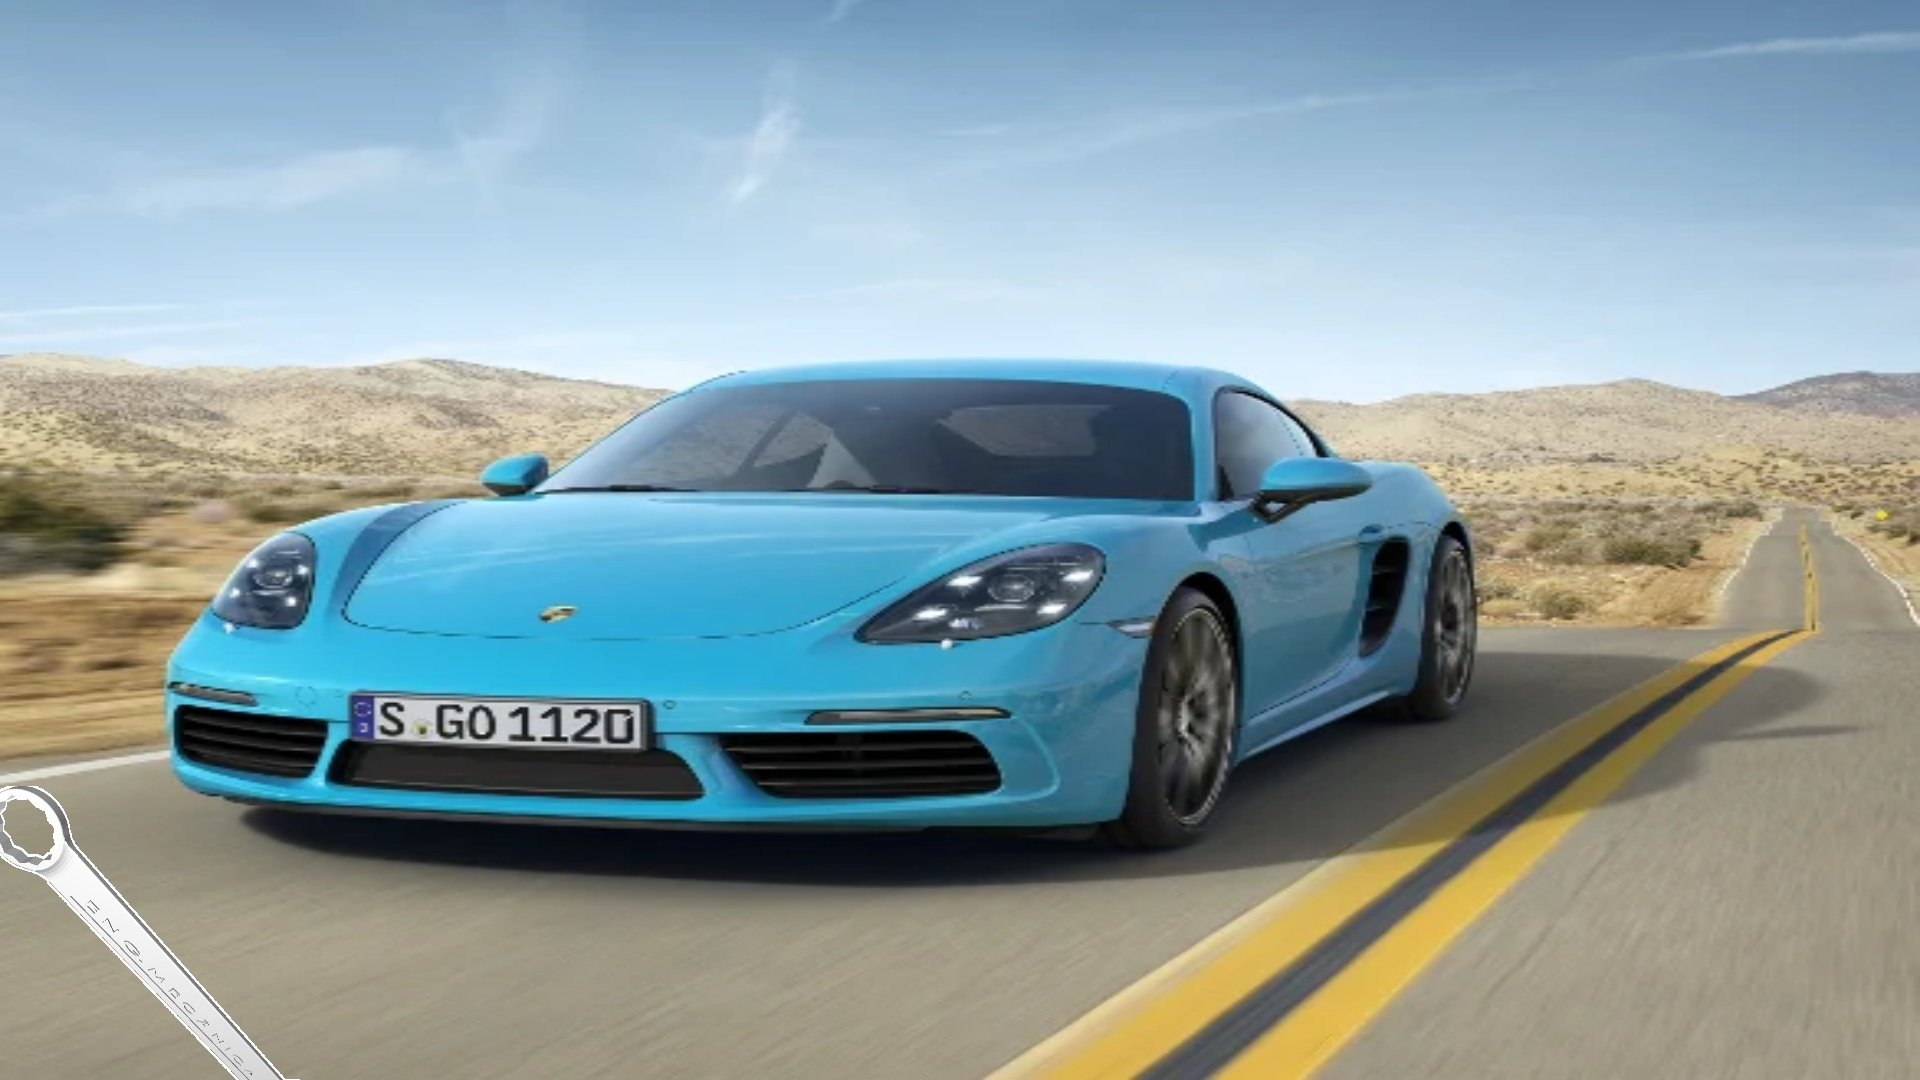Mixed Key: (0, 786, 299, 1079)
